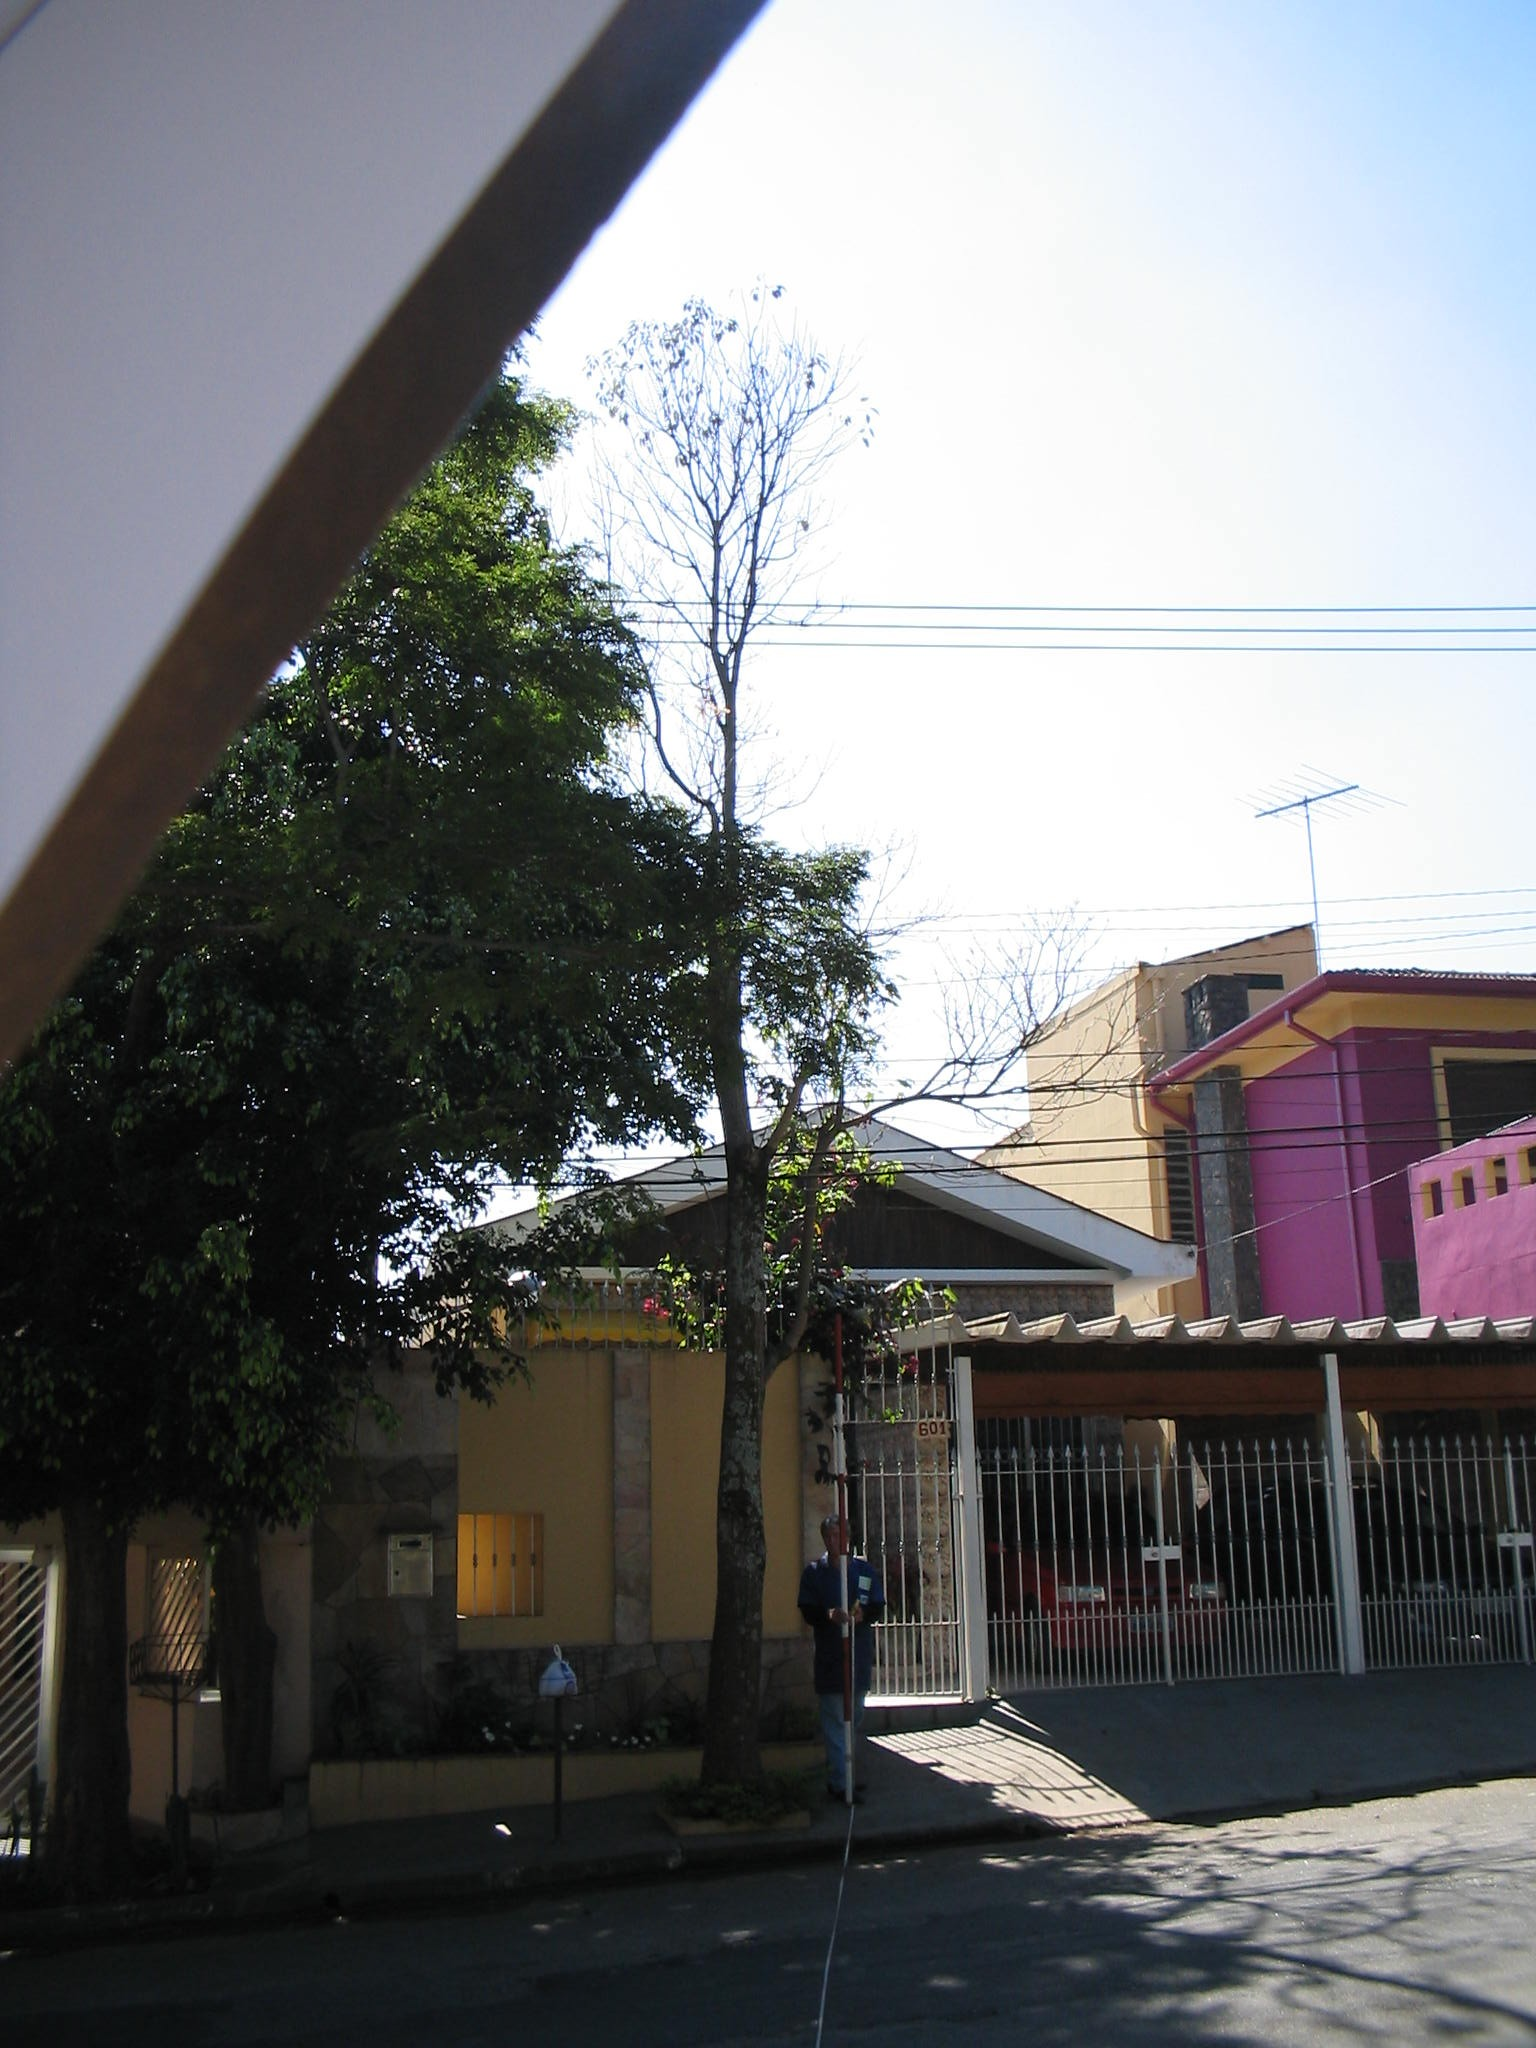crown: (2, 385, 695, 1521)
stem: (660, 1353, 815, 1803), (15, 1516, 174, 1895)
stick: (816, 1308, 860, 1808)
tree: (2, 387, 710, 1896), (545, 276, 1175, 1803)
